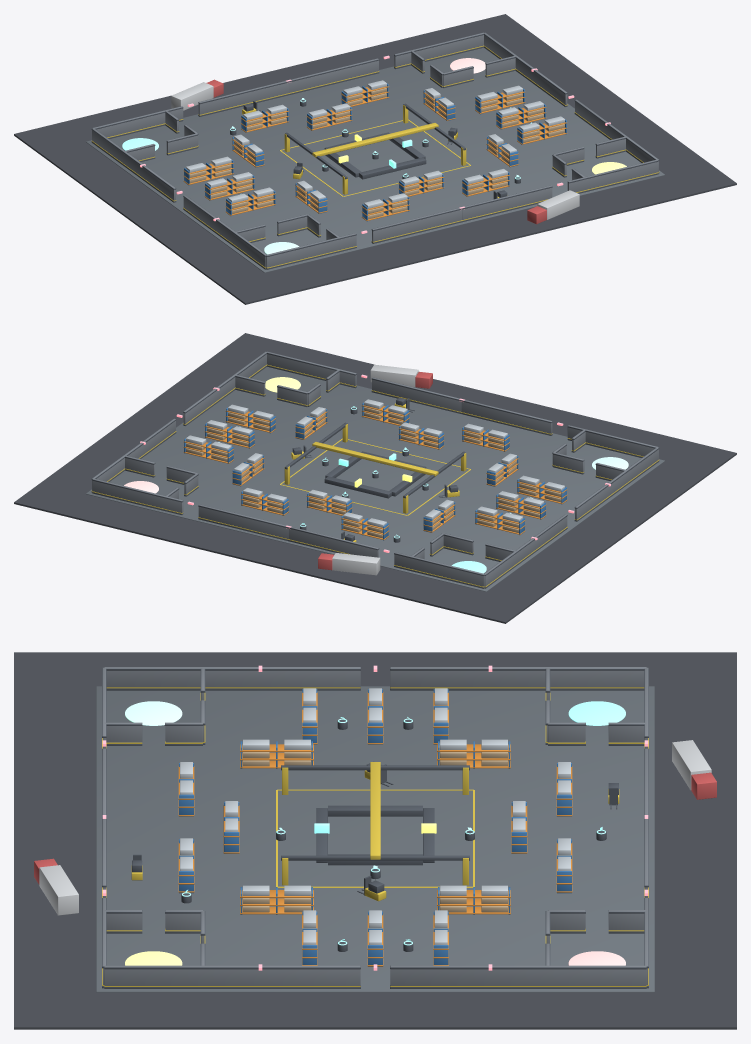
File: Map7_Lojistik_Depo_Labirenti_4v4v4v4.glb
3 views of the same model, one above another, from view 1: azimuth 30°, elevation 25°; view 2: azimuth 150°, elevation 25°; view 3: azimuth 270°, elevation 25° (orthographic). The views are drawn at different scales.
Parts seen in each view (by area): view 1: Warehouse_Main_EpoxyFloor, Warehouse_Exterior_Apron, WarehouseWall_3, WarehouseWall_8, WarehouseWall_9, WarehouseWall_12, WarehouseWall_11, WarehouseWall_5, WarehouseWall_15, WarehouseWall_14, WarehouseWall_6, WarehouseWall_18 (+6 smaller); view 2: Warehouse_Main_EpoxyFloor, Warehouse_Exterior_Apron, WarehouseWall_6, WarehouseWall_9, WarehouseWall_2, WarehouseWall_5, WarehouseWall_11, WarehouseWall_14, WarehouseWall_15, WarehouseWall_3, WarehouseWall_12, WarehouseWall_17 (+6 smaller); view 3: Warehouse_Main_EpoxyFloor, Warehouse_Exterior_Apron, WarehouseWall_17, WarehouseWall_18, WarehouseWall_14, WarehouseWall_15, SemiTruck_2_Trailer, Pad_Team1_Spawn, Pad_Team3_Spawn, SemiTruck_1_Trailer, GantryBridge_MainGirder, GantryRunwayBeam_13 (+20 smaller).
Boxes of the visible parts, <box> form: Warehouse_Main_EpoxyFloor: <box>86,47,664,272</box>; Warehouse_Exterior_Apron: <box>14,14,736,304</box>; WarehouseWall_3: <box>198,81,289,114</box>; WarehouseWall_8: <box>266,233,356,267</box>; WarehouseWall_9: <box>372,208,462,241</box>; WarehouseWall_12: <box>567,159,658,192</box>; WarehouseWall_11: <box>462,185,552,219</box>; WarehouseWall_5: <box>289,58,378,92</box>; WarehouseWall_15: <box>92,128,175,200</box>; WarehouseWall_14: <box>183,195,266,267</box>; WarehouseWall_6: <box>394,32,483,66</box>; WarehouseWall_18: <box>484,32,567,104</box>; Warehouse_Main_EpoxyFloor: <box>86,366,664,591</box>; Warehouse_Exterior_Apron: <box>14,333,736,623</box>; WarehouseWall_6: <box>92,478,183,512</box>; WarehouseWall_9: <box>461,400,552,433</box>; WarehouseWall_2: <box>394,552,484,586</box>; WarehouseWall_5: <box>198,504,288,538</box>; WarehouseWall_11: <box>372,377,461,411</box>; WarehouseWall_14: <box>575,447,658,519</box>; WarehouseWall_15: <box>484,514,567,586</box>; WarehouseWall_3: <box>288,527,378,557</box>; WarehouseWall_12: <box>266,351,356,385</box>; WarehouseWall_17: <box>183,351,266,423</box>; Warehouse_Main_EpoxyFloor: <box>96,686,654,992</box>; Warehouse_Exterior_Apron: <box>14,652,736,1029</box>; WarehouseWall_17: <box>104,965,360,985</box>; WarehouseWall_18: <box>390,965,646,985</box>; WarehouseWall_14: <box>104,667,360,687</box>; WarehouseWall_15: <box>390,667,646,687</box>; SemiTruck_2_Trailer: <box>39,865,78,915</box>; Pad_Team1_Spawn: <box>568,701,625,725</box>; Pad_Team3_Spawn: <box>125,701,182,725</box>; SemiTruck_1_Trailer: <box>672,740,711,790</box>; GantryBridge_MainGirder: <box>370,762,380,859</box>; GantryRunwayBeam_13: <box>281,855,469,860</box>.
Bounding box in the file's own units: 108 × 4.52 × 88.
